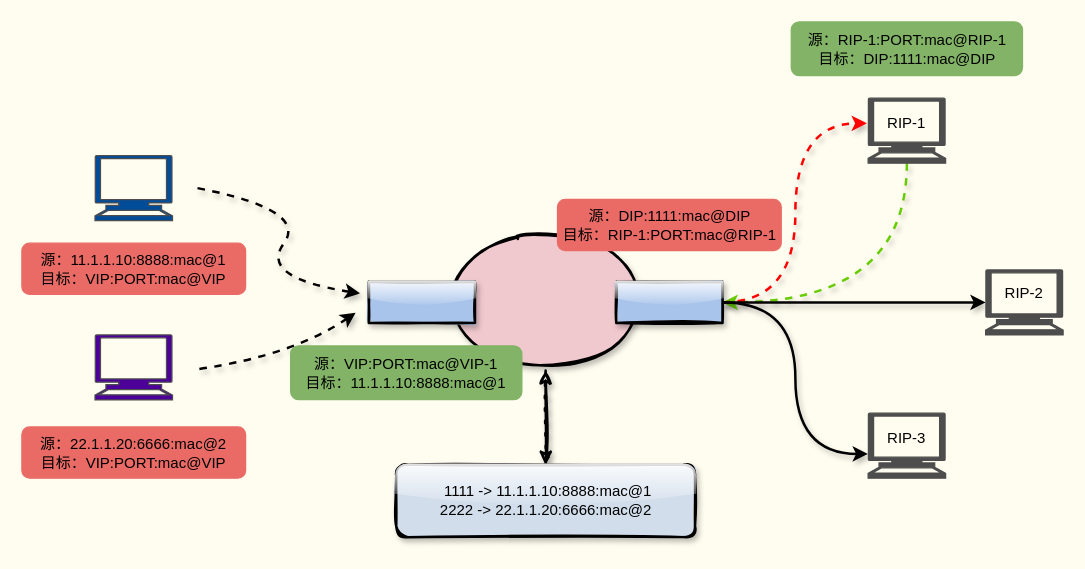
Image size: 1085x569. Some labels were removed from this diagram. Each missing label, with the centre of its shape:
"DIP" belongs at (x=670, y=303).
"FULLNAT" belongs at (x=546, y=300).
"VIP" belongs at (x=422, y=303).
